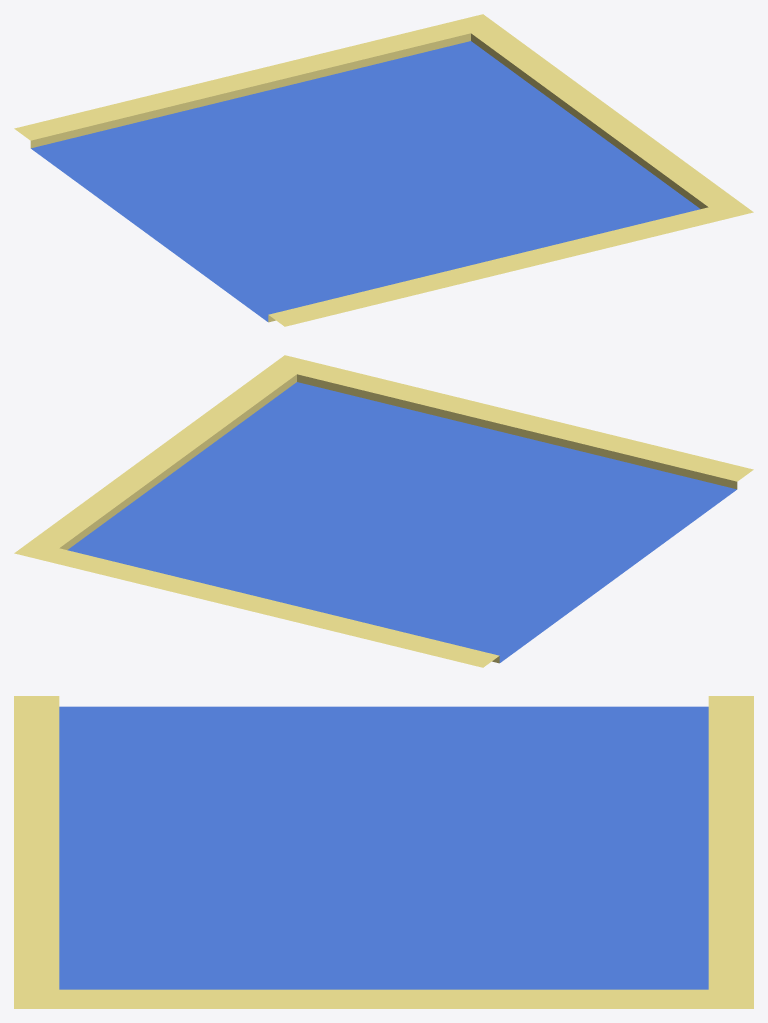
The model's file is water_end.FBX.
3 renders of one model, top to bottom at view 1: azimuth 30°, elevation 25°; view 2: azimuth 150°, elevation 25°; view 3: azimuth 270°, elevation 25°, orthographic. The views are drawn at different scales.
Parts seen in each view (by area): view 1: water_end; view 2: water_end; view 3: water_end.
Boxes of the visible parts, left/top/right/bottom form: water_end: left=14, top=14, right=753, bottom=326; water_end: left=14, top=355, right=753, bottom=667; water_end: left=14, top=696, right=753, bottom=1008.
Bounding box in the file's own units: 10 × 0.1577 × 10.
